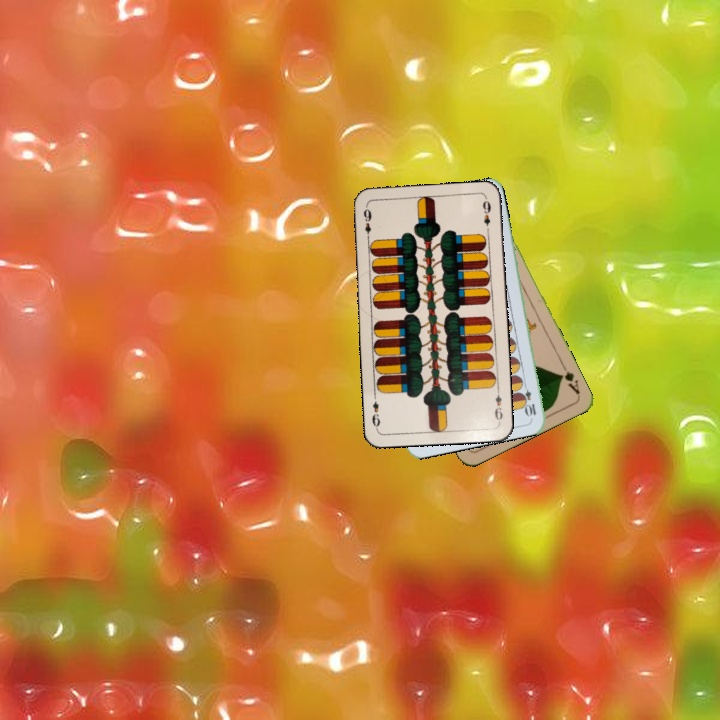E10: (518, 378, 539, 419)
E9: (490, 384, 505, 425), (360, 205, 374, 243)
GA: (556, 360, 582, 397)
